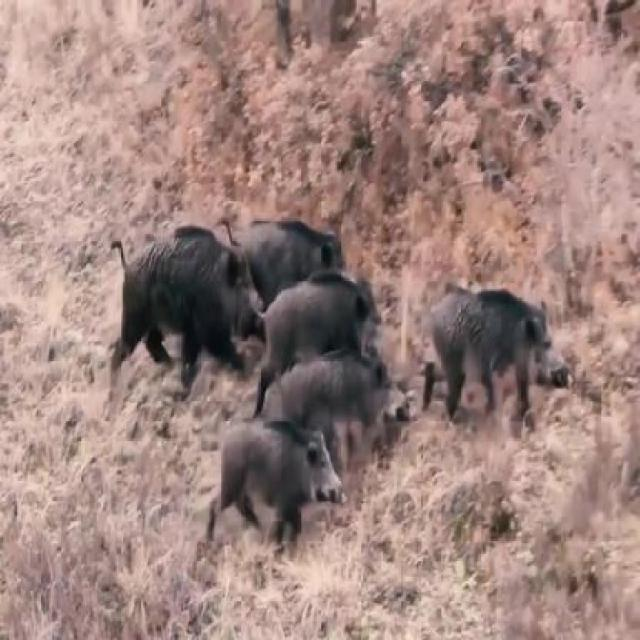WildBoar: (93, 203, 262, 409), (422, 268, 601, 440), (222, 388, 353, 594), (282, 318, 428, 497), (248, 272, 386, 381)
